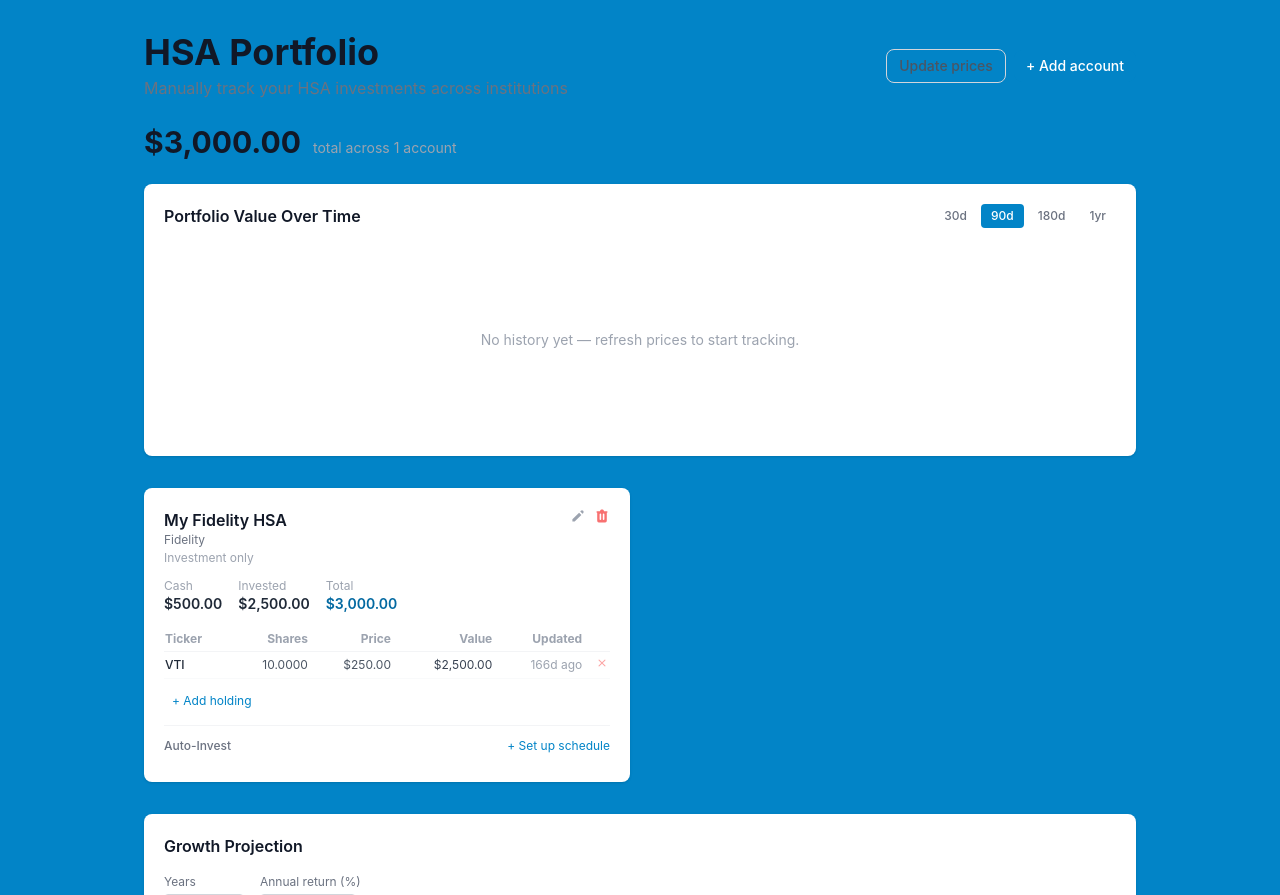
Test: Portfolio page › clicking shares value enters edit mode with current value pre-filled
The image size is (1280, 895).
Expected: the text "VTI" is shown, [164,652,229,678]
Click the button named "edit shares for vti": (285, 665) [262,657,308,673]
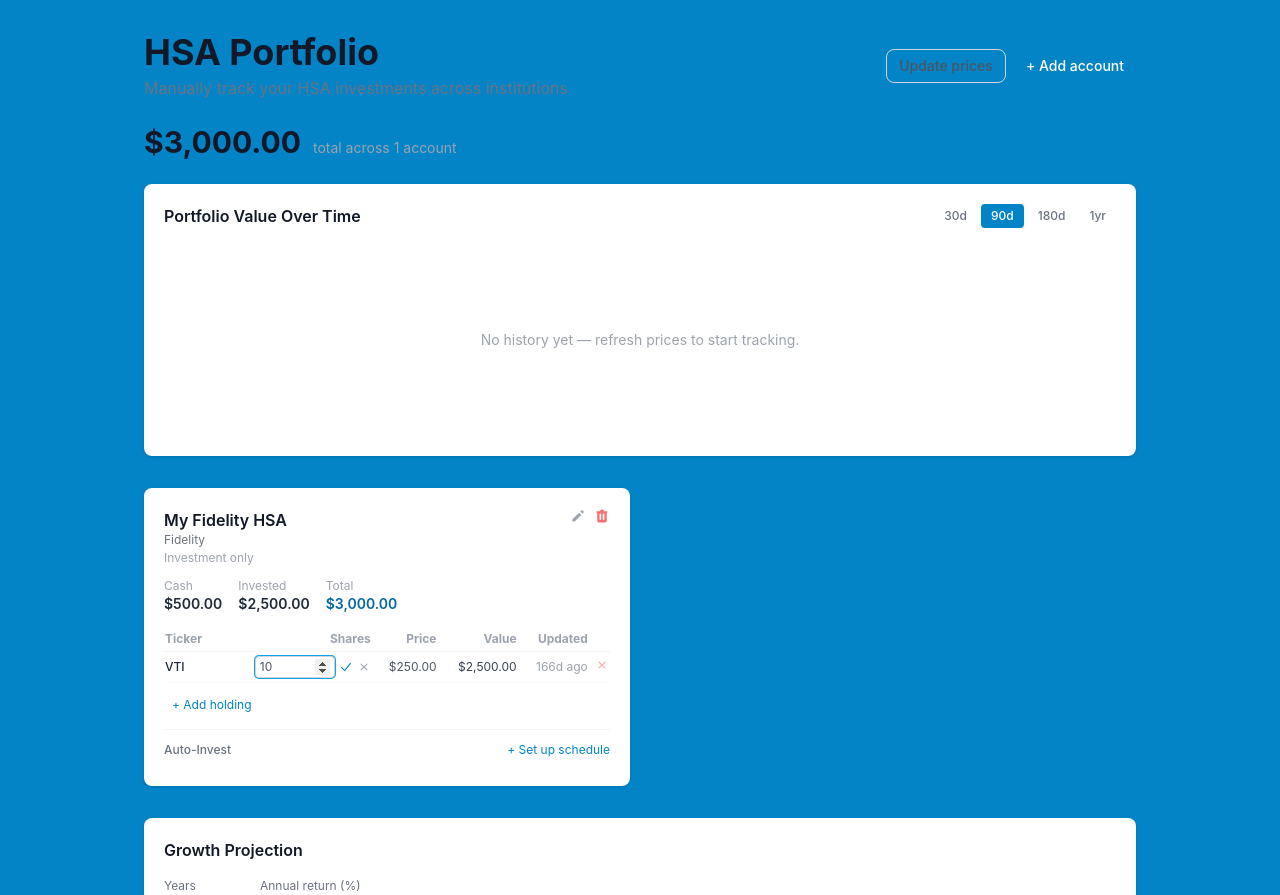
Expected: the number field named "shares for vti" holds "10", [255,656,335,678]
